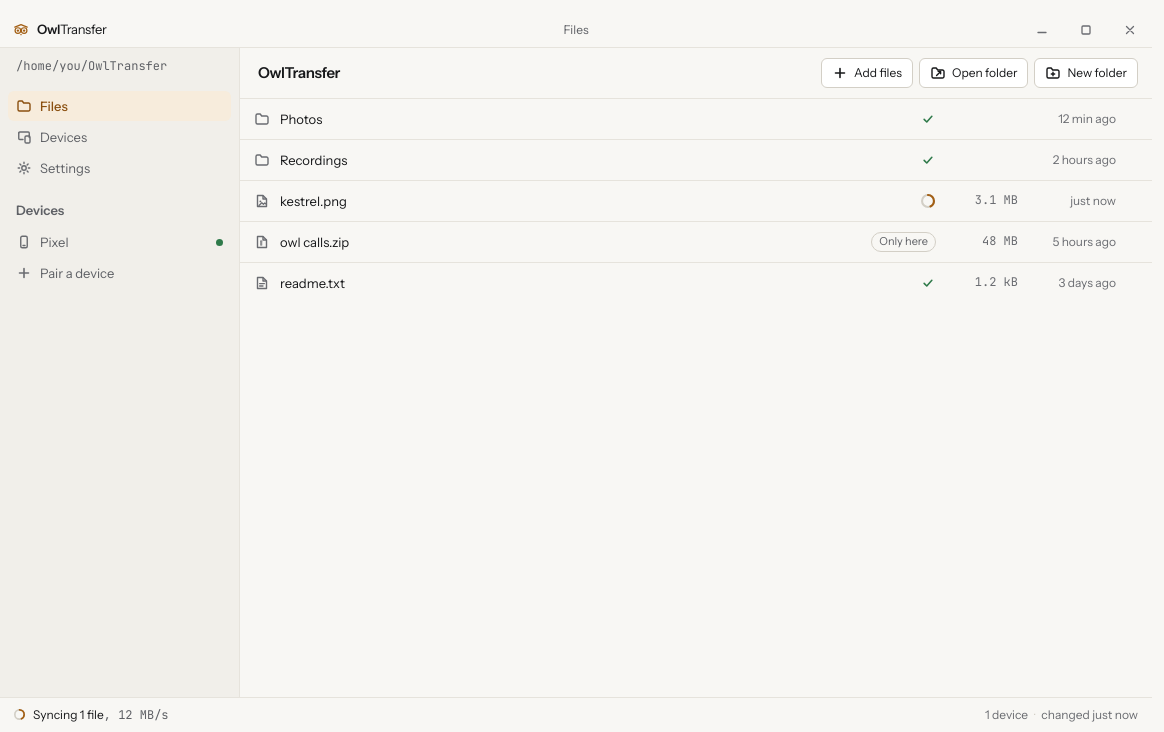
Test: TitleBar › says which way the middle control points, so it never names the wrong one
The image size is (1164, 732).
Click the button named "Maximize" at (1086, 30), box [1064,12,1108,47]
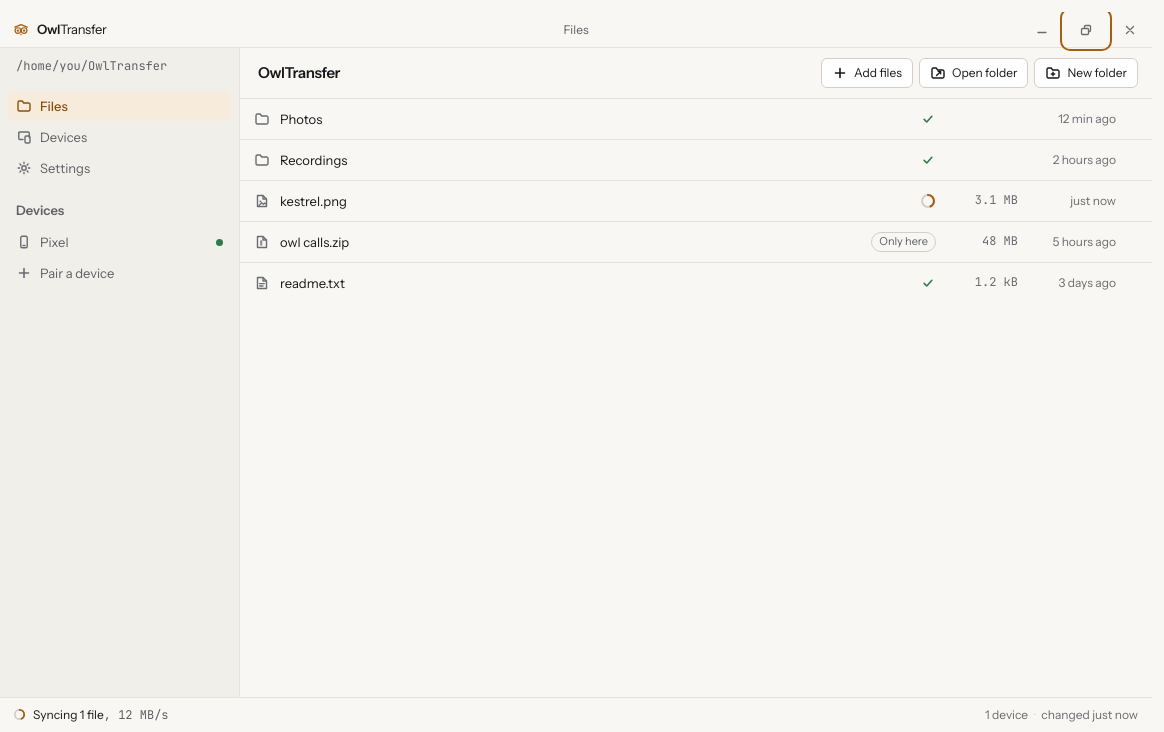
Expected: the button named "Restore" is shown
Click the button named "Restore" at (1086, 30), box [1064,12,1108,47]
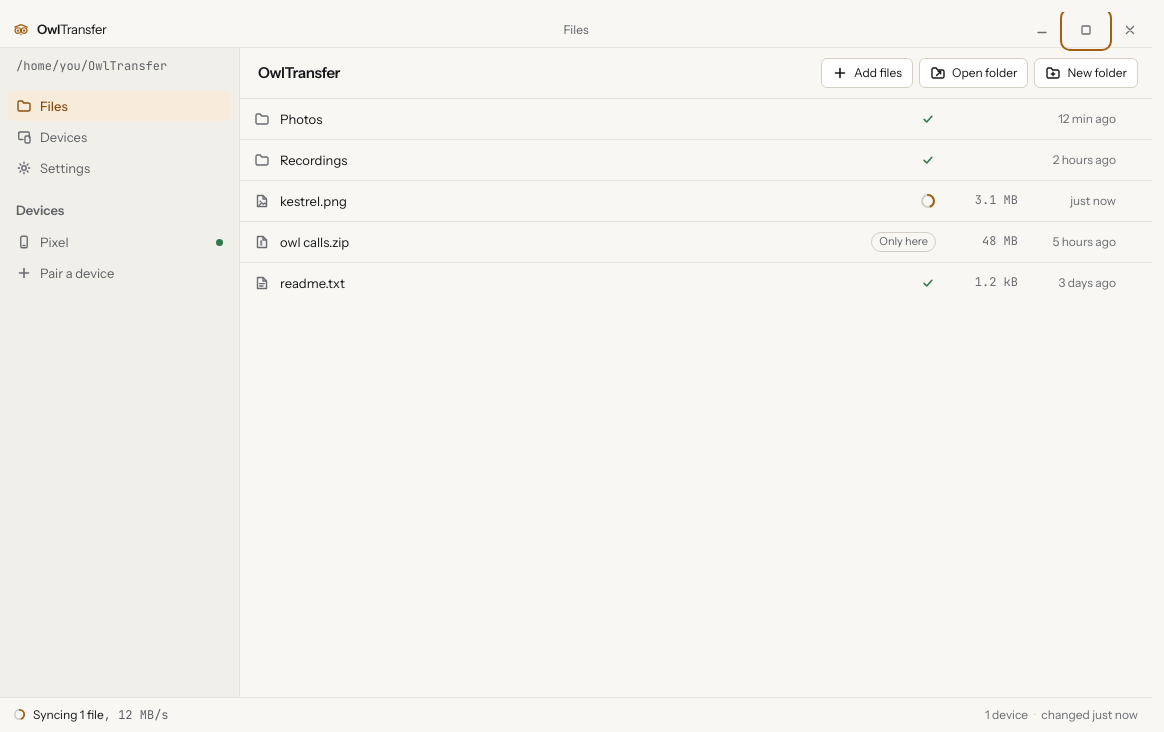
Expected: the button named "Maximize" is shown, [1064,12,1108,47]
